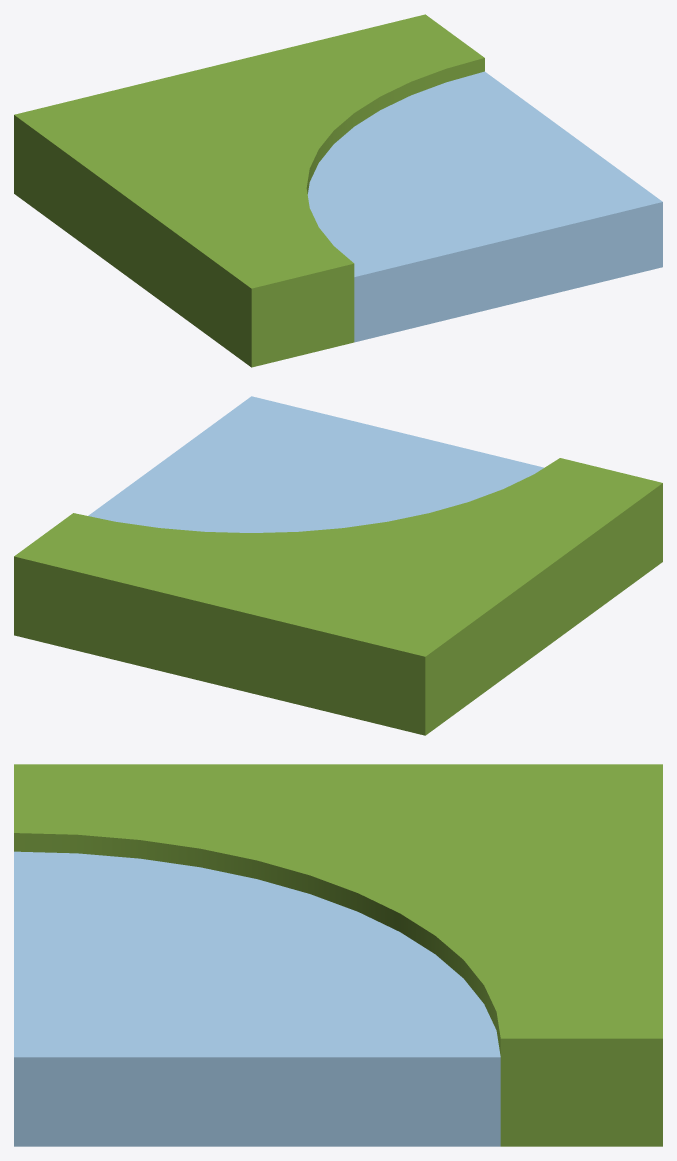
Rendered from tile115.dae.
The picture shows the model from 3 angles, top to bottom: view 1: azimuth 30°, elevation 25°; view 2: azimuth 150°, elevation 25°; view 3: azimuth 270°, elevation 25°; orthographic projection. The views are drawn at different scales.
Parts seen in each view (by area): view 1: tile115; view 2: tile115; view 3: tile115.
Part boxes in pixels (x1,y1,x2,y2): tile115: [14, 14, 662, 367]; tile115: [14, 396, 662, 735]; tile115: [14, 764, 662, 1146].
Bounding box in the file's own units: 1 × 0.1833 × 1.
